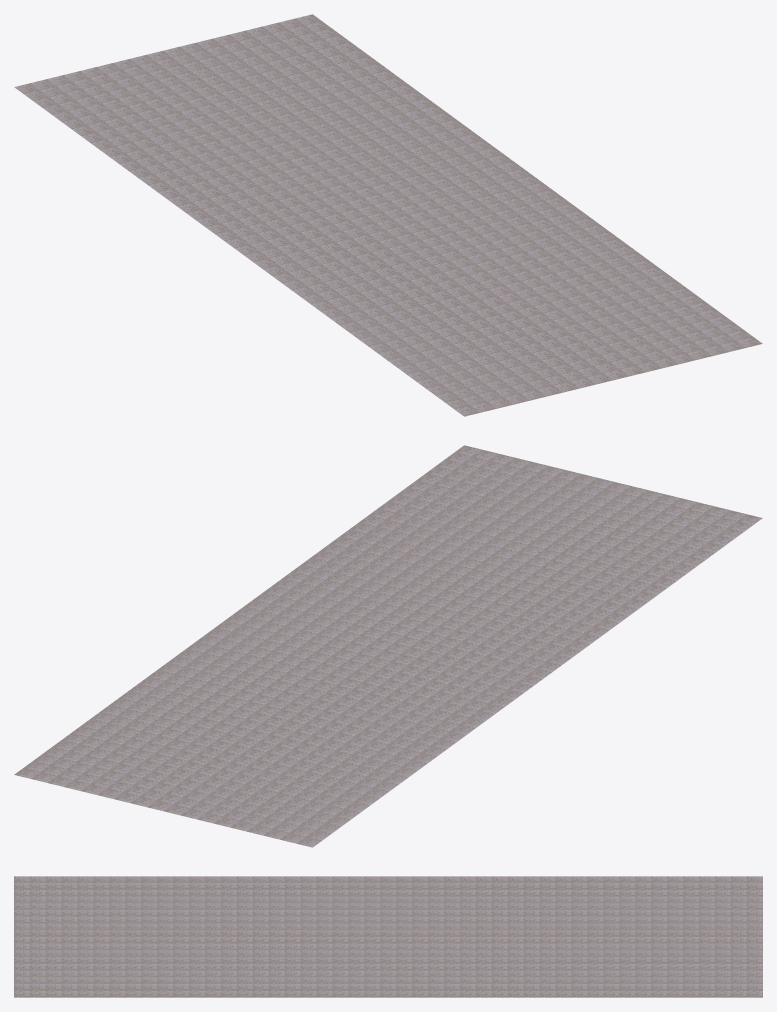
The model's file is int1.obj.
The picture shows the model from 3 angles, top to bottom: view 1: azimuth 30°, elevation 25°; view 2: azimuth 150°, elevation 25°; view 3: azimuth 270°, elevation 25°; orthographic projection. The views are drawn at different scales.
Parts seen in each view (by area): view 1: pasted__pasted__pasted__pasted__pasted__pasted__pasted__pasted__; view 2: pasted__pasted__pasted__pasted__pasted__pasted__pasted__pasted__; view 3: pasted__pasted__pasted__pasted__pasted__pasted__pasted__pasted__.
Boxes of the visible parts, x1,y1,x2,y2 form: pasted__pasted__pasted__pasted__pasted__pasted__pasted__pasted__: [14, 14, 762, 416]; pasted__pasted__pasted__pasted__pasted__pasted__pasted__pasted__: [14, 445, 762, 847]; pasted__pasted__pasted__pasted__pasted__pasted__pasted__pasted__: [14, 876, 762, 997].
Size of the model in its own units: 18 by 0 by 47.
Materials: 846 (846 with a texture image).
